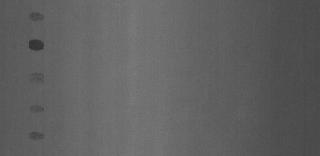oil spot: (28, 72, 46, 88), (26, 38, 44, 52), (25, 130, 45, 142), (27, 11, 45, 23), (28, 102, 46, 114)
